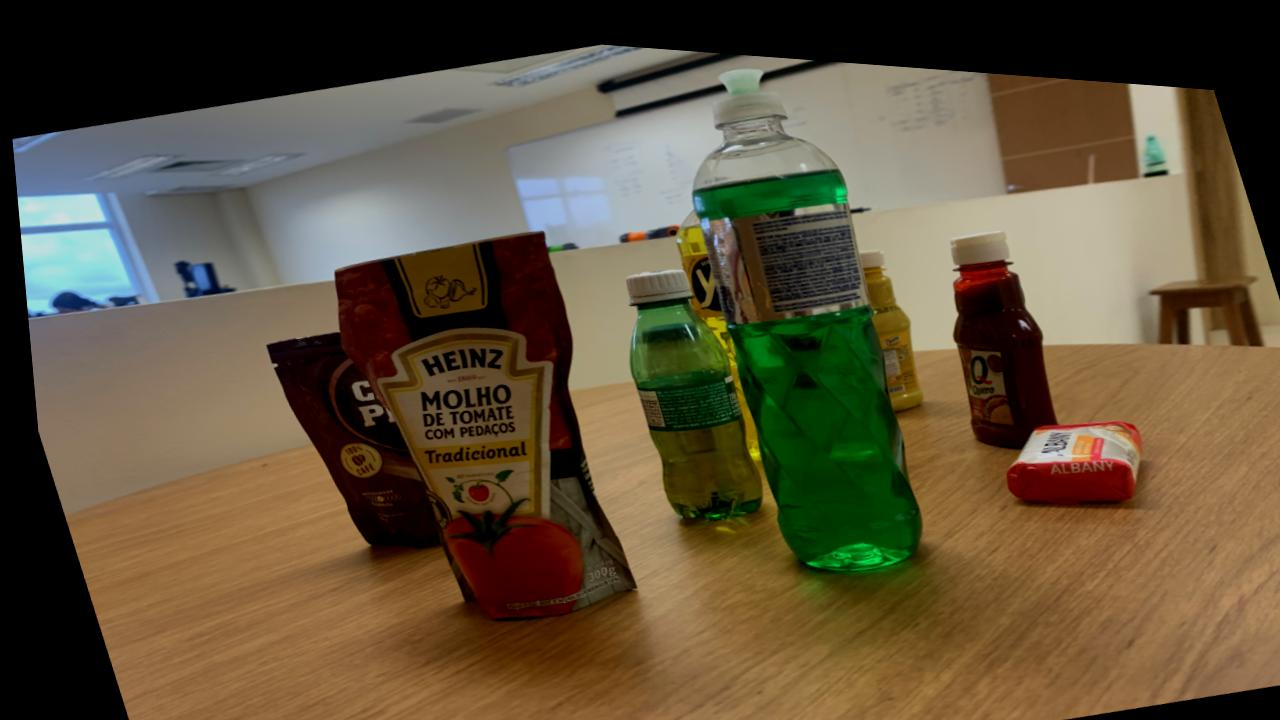Coffee-Pantry_Items: (261, 327, 430, 542)
Detergent-Cleanup_Items: (689, 56, 914, 559), (672, 200, 753, 447)
Guarana-Drinks: (621, 258, 755, 509)
Ketchup-Pantry_Items: (947, 215, 1051, 432)
Mustard-Pantry_Items: (855, 236, 918, 397)
Soap-Cleanup_Items: (998, 403, 1135, 486)
Tomato_Sauce-Pantry_Items: (330, 224, 625, 612)
